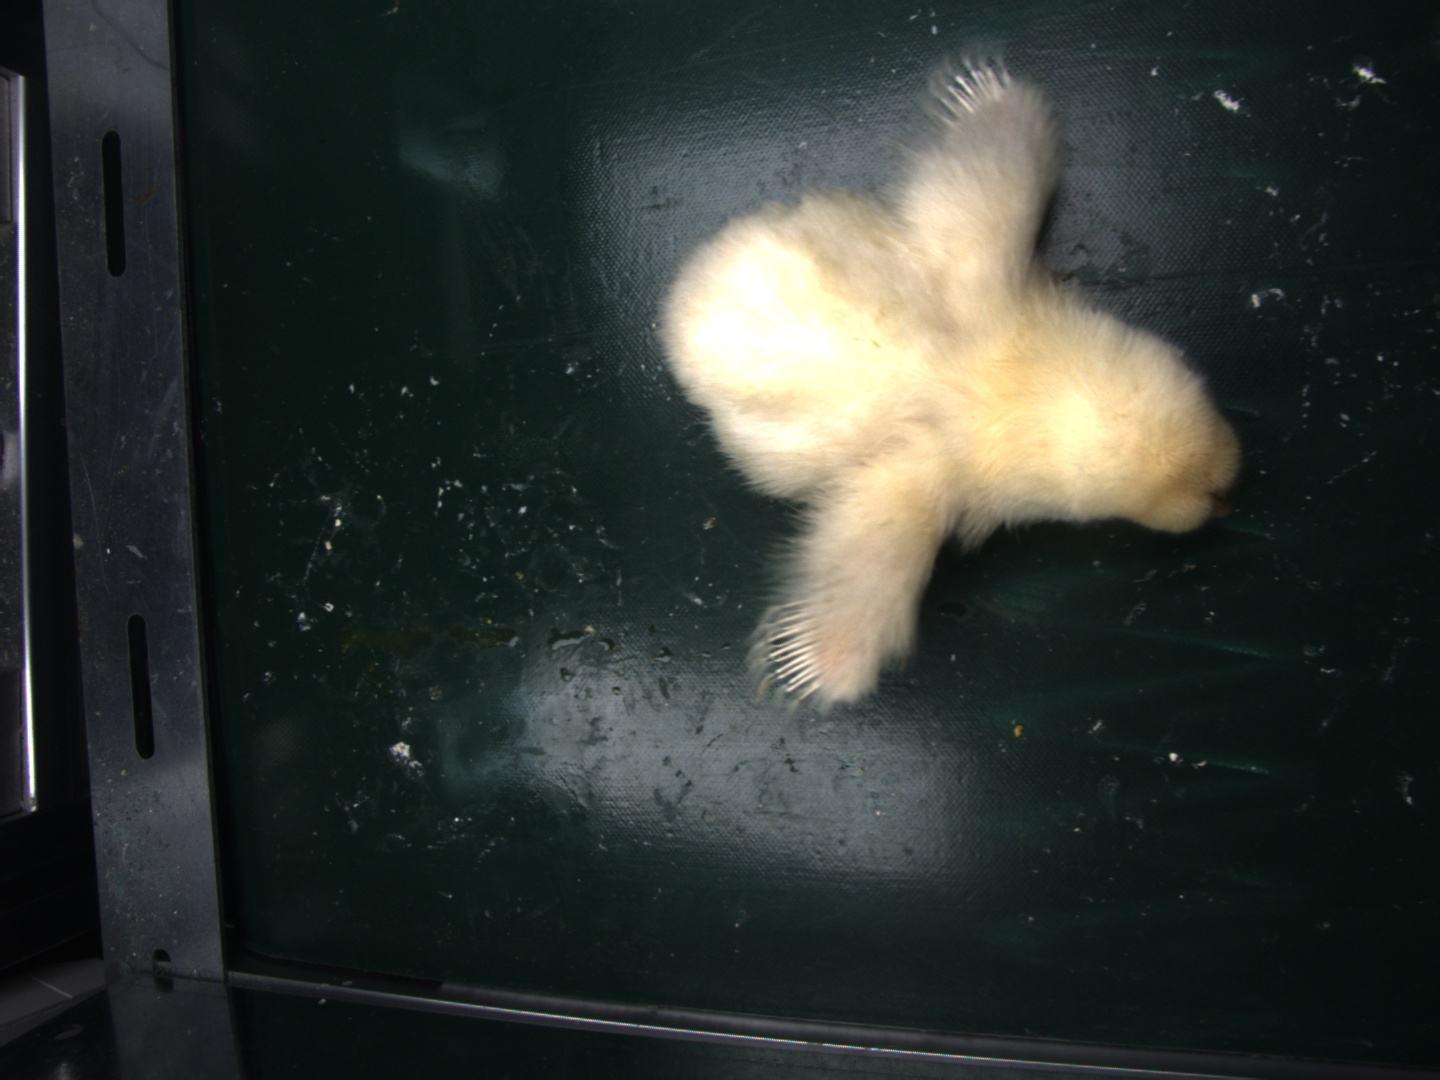male: (764, 604, 827, 699)
